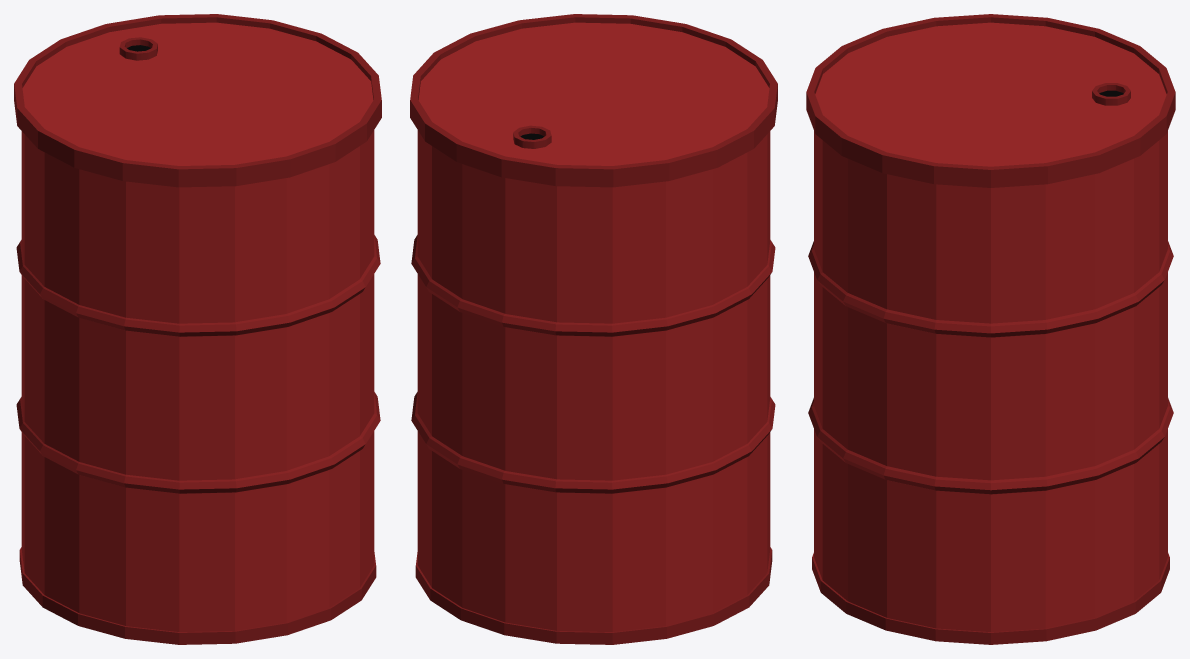
Rendered from Explosive Barrel.fbx.
3 views of the same model, side by side, from view 1: azimuth 30°, elevation 25°; view 2: azimuth 150°, elevation 25°; view 3: azimuth 270°, elevation 25° (orthographic).
Parts seen in each view (by area): view 1: Cylinder; view 2: Cylinder; view 3: Cylinder.
Part boxes in pixels (x1,y1,x2,y2): Cylinder: (14, 14, 381, 644); Cylinder: (410, 14, 777, 644); Cylinder: (806, 14, 1175, 644).
Size of the model in its own units: 69.85 by 100 by 69.85.
